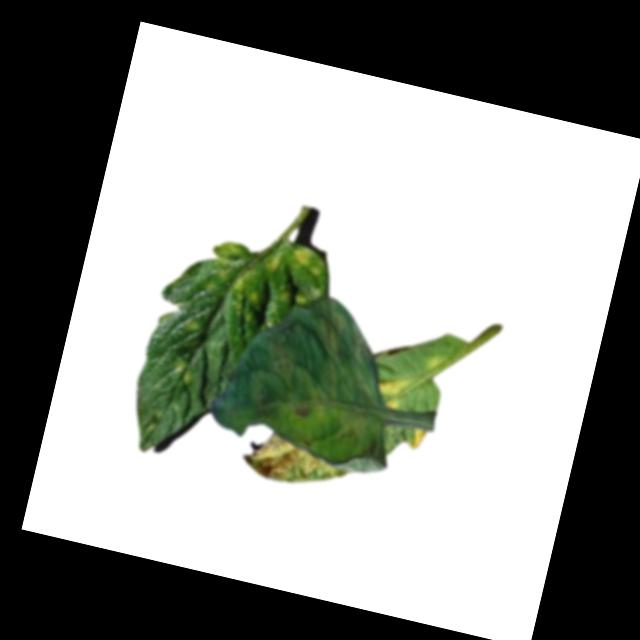Leaf_Mold: (240, 429, 353, 499), (255, 307, 311, 384), (311, 302, 354, 358), (372, 373, 415, 414), (287, 245, 329, 283), (292, 401, 319, 428), (259, 249, 285, 276), (403, 427, 428, 452)
